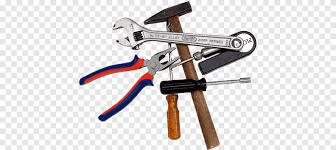wrench: (110, 16, 243, 50)
